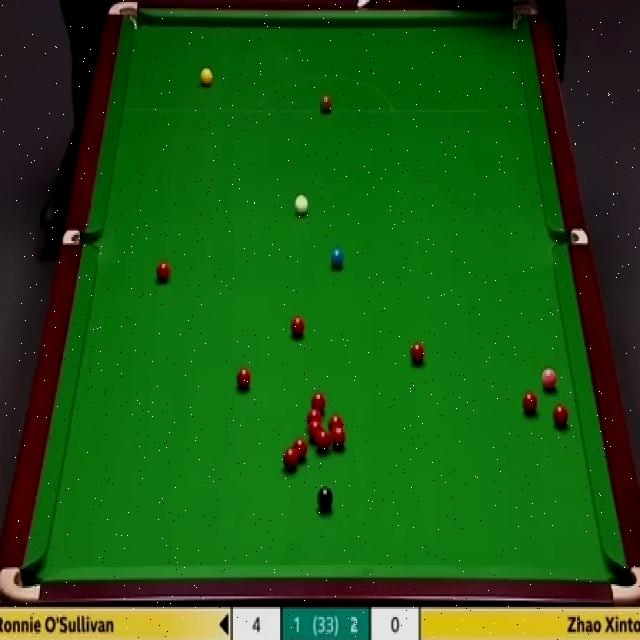black-ball: (317, 484, 333, 515)
blue-ball: (329, 246, 345, 268)
brown-ball: (319, 93, 333, 114)
pink-ball: (541, 366, 557, 392)
red-ball: (235, 366, 253, 394), (523, 391, 541, 416), (282, 447, 299, 473), (552, 405, 570, 428), (293, 440, 310, 464), (410, 341, 426, 366), (331, 426, 346, 452), (290, 316, 306, 339), (316, 429, 330, 452), (157, 260, 170, 284), (310, 392, 326, 409), (308, 422, 322, 441), (306, 408, 322, 424), (329, 416, 343, 430)
white-ball: (293, 194, 309, 217)
yellow-ball: (200, 68, 214, 89)
